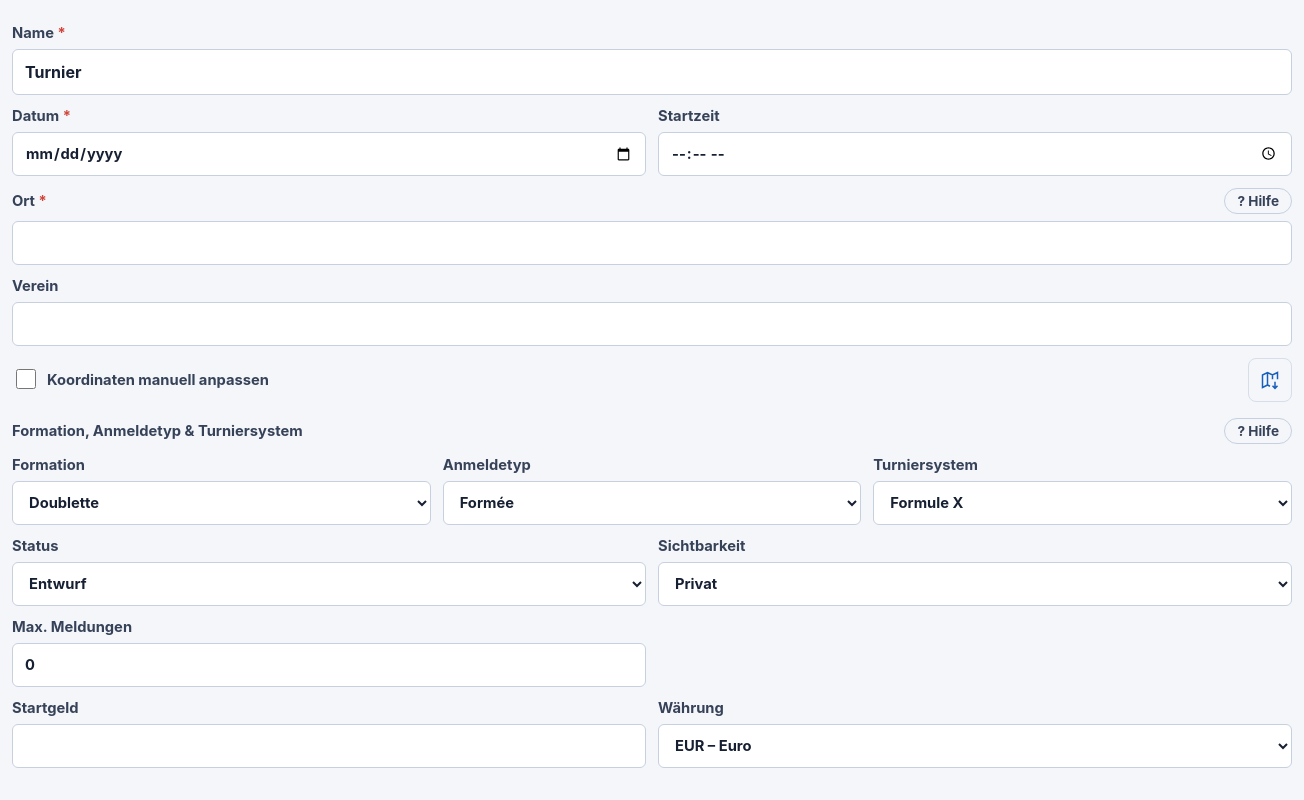
Ausrichtender Verein › belegt den Verein vor, wenn die gewählte Adresse zu einem Vereinsplatz passt
Type "Rathausplatz" into the dropdown labelled "Ort *" at [652, 243], box [12, 221, 1292, 265]
Wait 700 ms
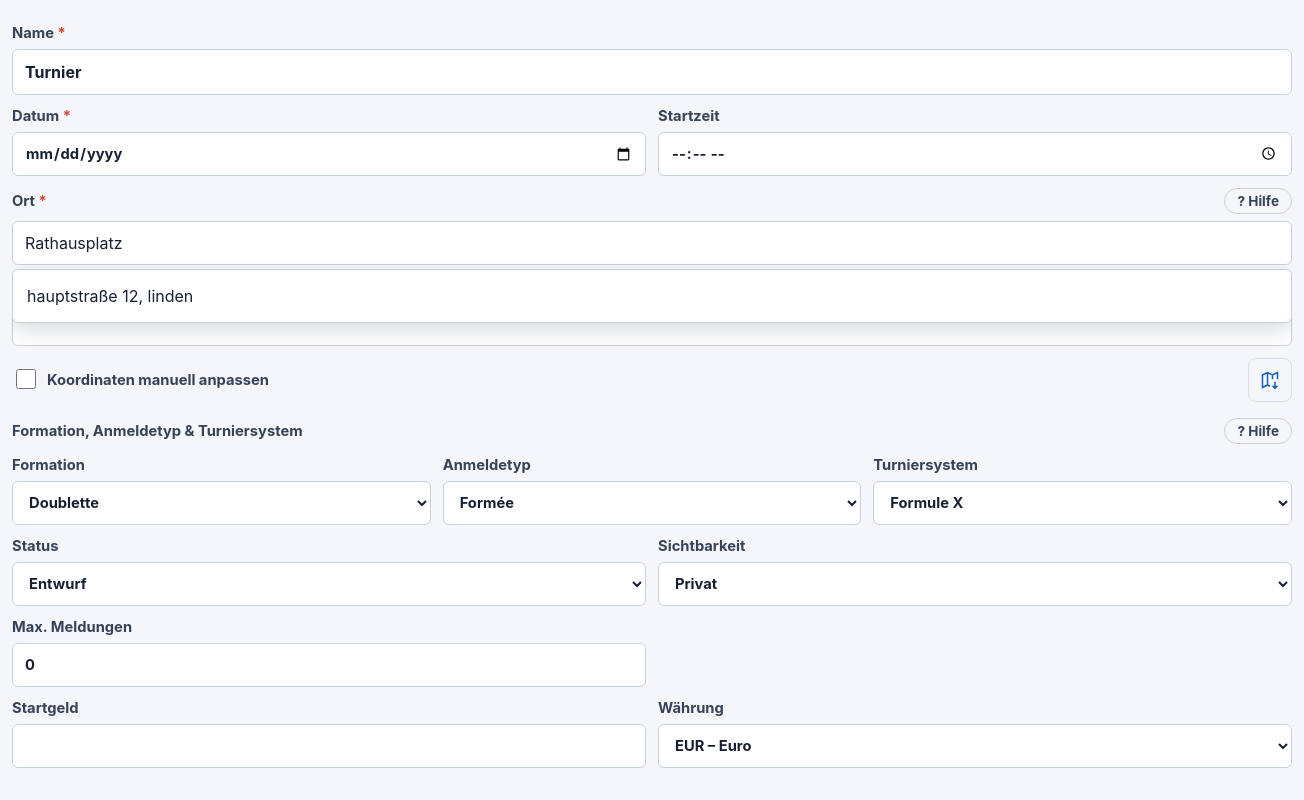
Click the option "hauptstraße 12, linden" at [110, 296], box [17, 274, 1287, 318]
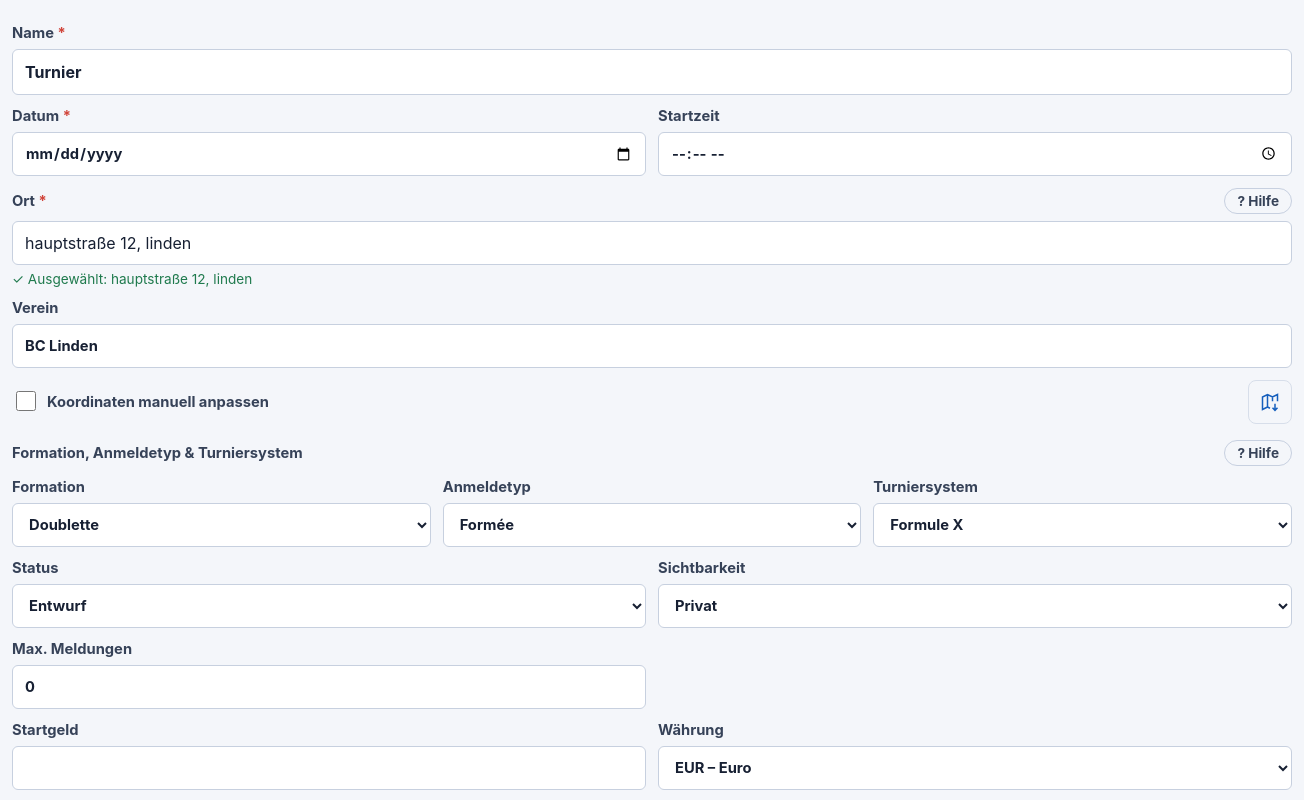
Expected: the field labelled "Verein" holds "BC Linden", [12, 324, 1292, 368]
